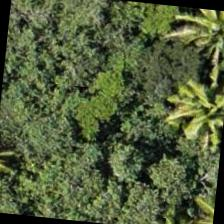Kelapa_Sawit: (145, 63, 223, 162), (155, 62, 223, 160), (149, 4, 223, 81), (172, 6, 223, 83)
